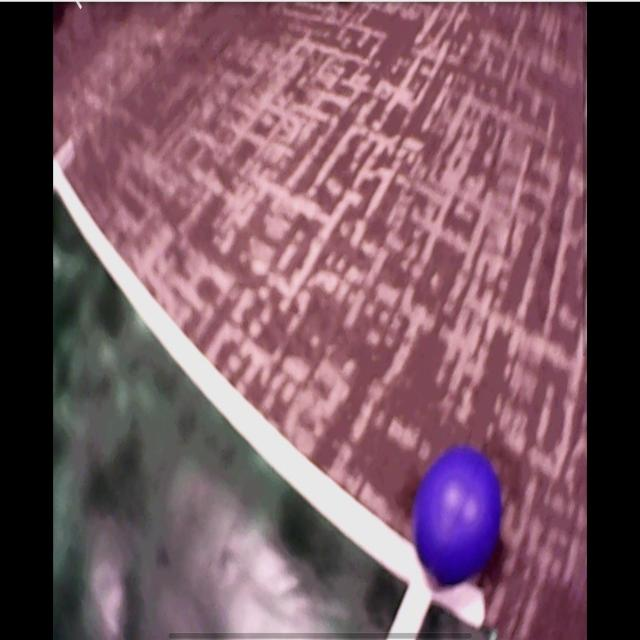ball: (414, 444, 502, 586)
